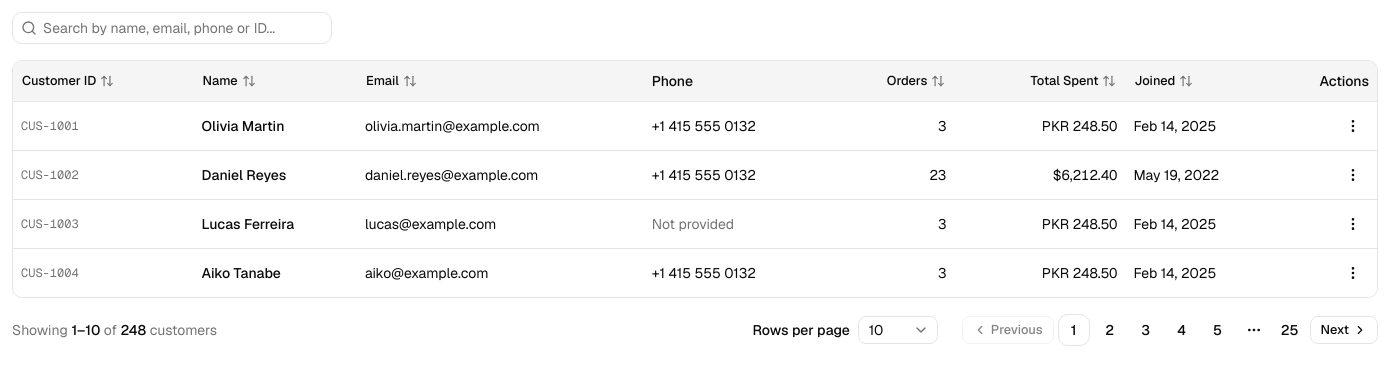
Test: CustomersList sorting › returns to the first page when the sort changes
The width and height of the screenshot is (1390, 366).
Expected: the link "Daniel Reyes" is shown, [202, 166, 286, 184]
Click the button named "Go to page 3": (1146, 330) [1130, 314, 1162, 346]
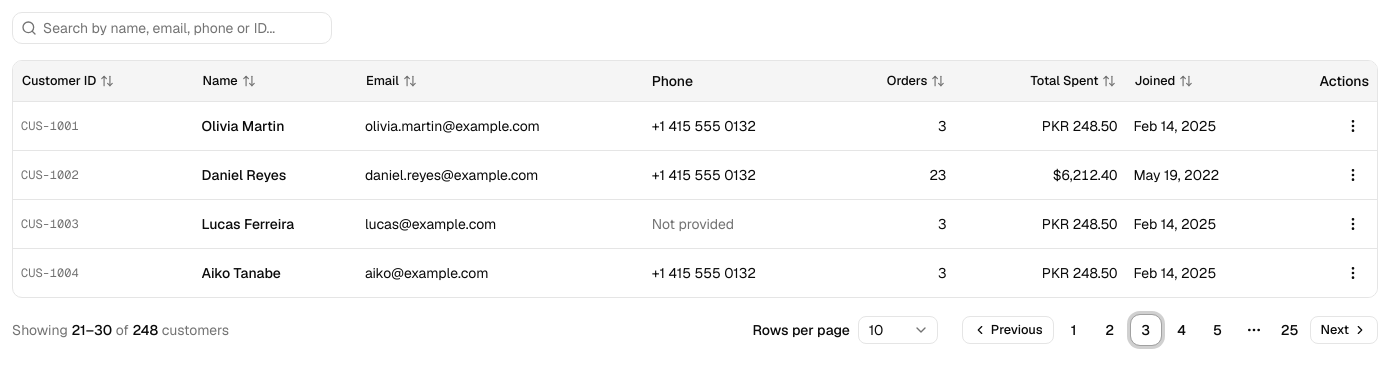
Click the button "Name": (229, 81) [192, 67, 267, 95]
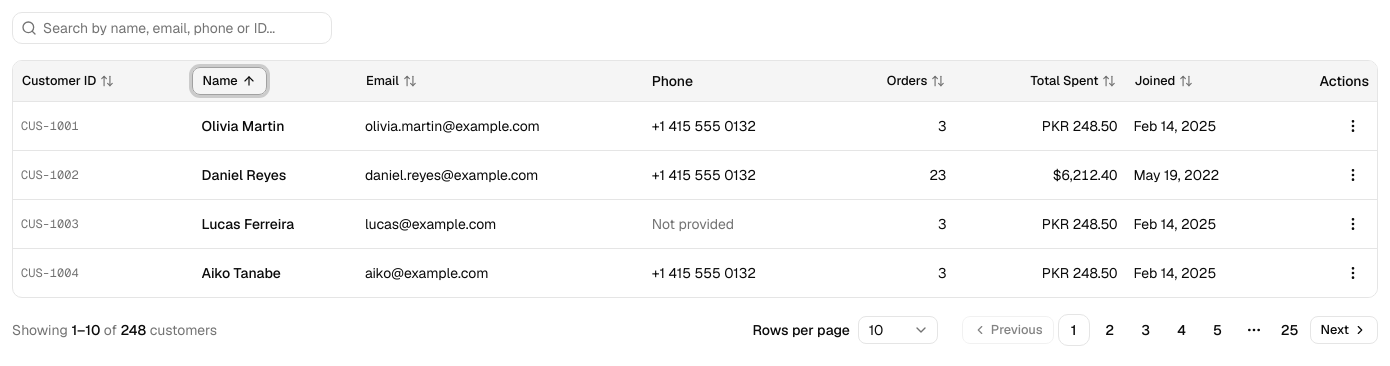
Expected: the text "1–10" is shown, [71, 320, 100, 338]
